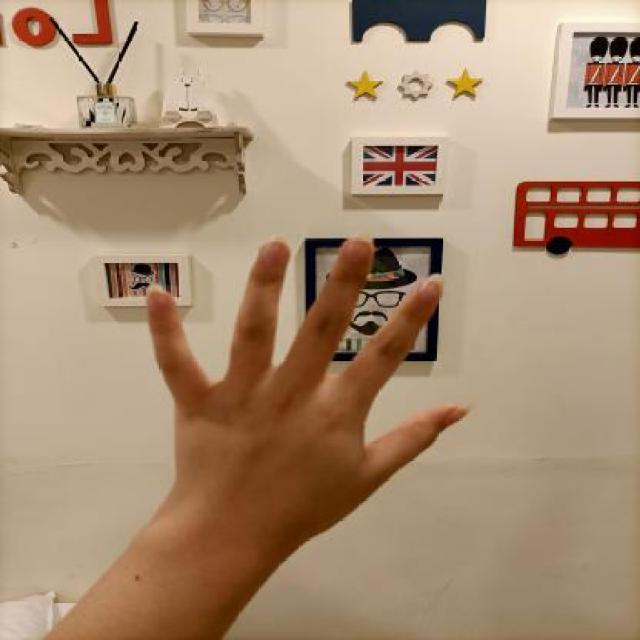bare_hand: (116, 223, 492, 543)
